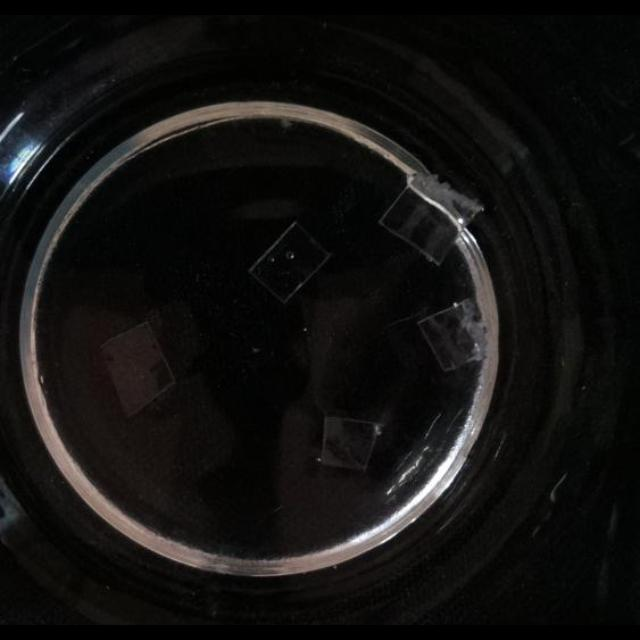Film: (381, 174, 481, 262), (98, 320, 176, 420), (248, 220, 332, 304), (415, 300, 485, 372), (318, 413, 384, 473)
